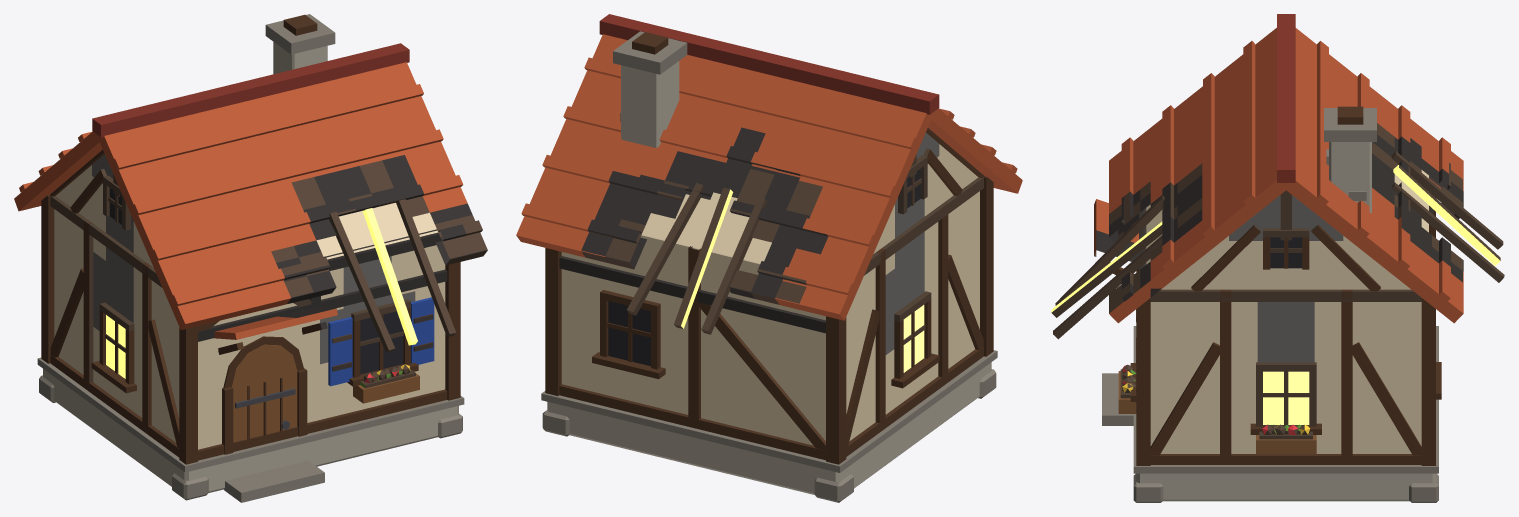
File: Haus_Klein_Beschaedigt.fbx
3 views of the same model, side by side, from view 1: azimuth 30°, elevation 25°; view 2: azimuth 150°, elevation 25°; view 3: azimuth 270°, elevation 25° (orthographic). The views are drawn at different scales.
Visible parts, largest first — view 1: Haus_Klein_Beschaedigt; view 2: Haus_Klein_Beschaedigt; view 3: Haus_Klein_Beschaedigt.
Boxes of the visible parts, box(x1,y1,x2,y2) form: Haus_Klein_Beschaedigt: box(14, 14, 487, 502); Haus_Klein_Beschaedigt: box(516, 14, 1022, 502); Haus_Klein_Beschaedigt: box(1051, 14, 1504, 502).
Bounding box in the file's own units: 5.17 × 5.6 × 6.35.
